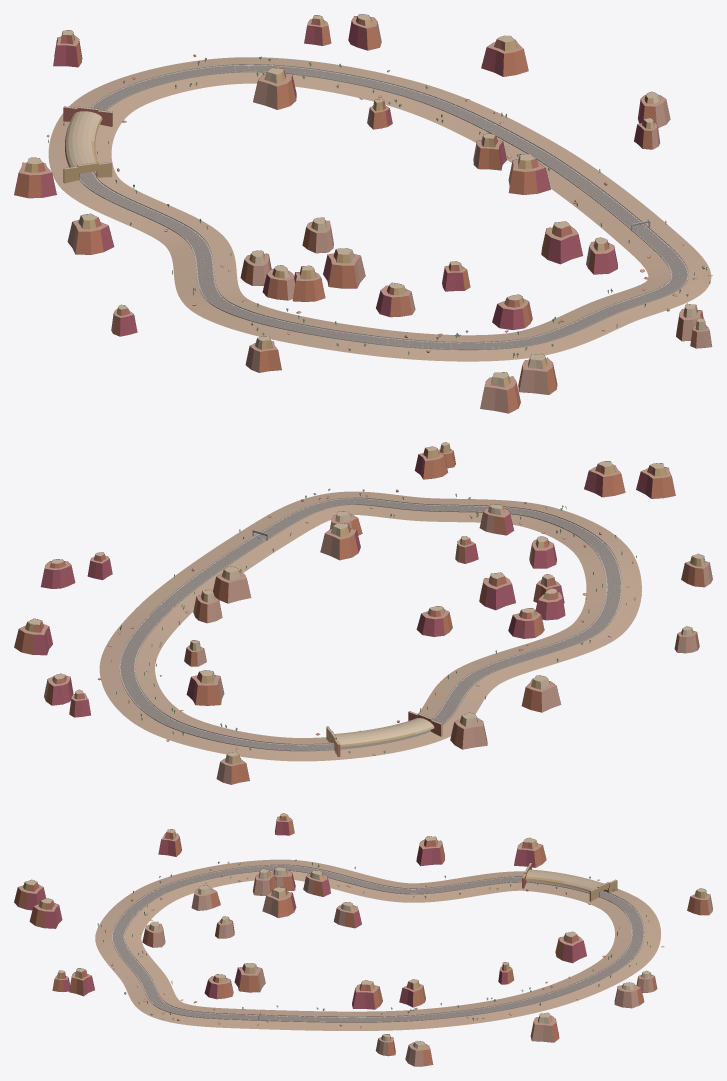
The model's file is track_2.glb.
3 renders of one model, top to bottom at view 1: azimuth 30°, elevation 25°; view 2: azimuth 150°, elevation 25°; view 3: azimuth 270°, elevation 25°, orthographic. The views are drawn at different scales.
Parts seen in each view (by area): view 1: chunk_4, chunk_3, chunk_1, chunk_2, chunk_0, chunk_5; view 2: chunk_3, chunk_4, chunk_1, chunk_0, chunk_2, chunk_5; view 3: chunk_4, chunk_1, chunk_3, chunk_0, chunk_2, chunk_5.
Part boxes in pixels (left/top/right/bottom): chunk_4: left=329, top=261, right=712, bottom=413; chunk_3: left=111, top=217, right=365, bottom=372; chunk_1: left=53, top=14, right=528, bottom=129; chunk_2: left=14, top=84, right=206, bottom=254; chunk_0: left=423, top=91, right=670, bottom=237; chunk_5: left=541, top=221, right=712, bottom=313; chunk_3: left=416, top=553, right=712, bottom=688; chunk_4: left=388, top=442, right=675, bottom=571; chunk_1: left=14, top=618, right=270, bottom=784; chunk_0: left=41, top=529, right=282, bottom=654; chunk_2: left=256, top=675, right=561, bottom=761; chunk_5: left=238, top=488, right=405, bottom=560; chunk_4: left=14, top=874, right=234, bottom=996; chunk_1: left=498, top=888, right=712, bottom=1042; chunk_3: left=158, top=813, right=424, bottom=928; chunk_0: left=257, top=979, right=519, bottom=1066; chunk_2: left=416, top=836, right=654, bottom=918; chunk_5: left=124, top=963, right=265, bottom=1028.
Size of what is drawn, in the model's own units: 858 by 56.52 by 1094.
